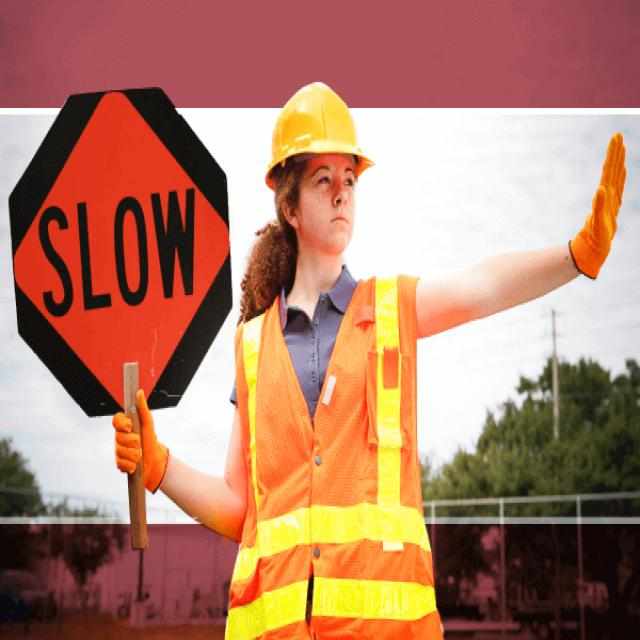Gloves: (565, 126, 629, 295), (112, 383, 177, 507)
Hard Hat: (263, 74, 378, 192)
Reflective Vest: (232, 262, 449, 640)
